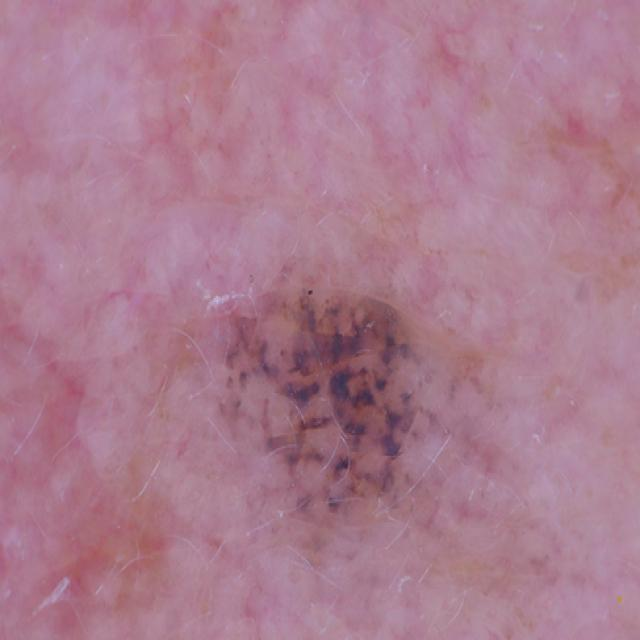Keratosis: (192, 233, 476, 618)
